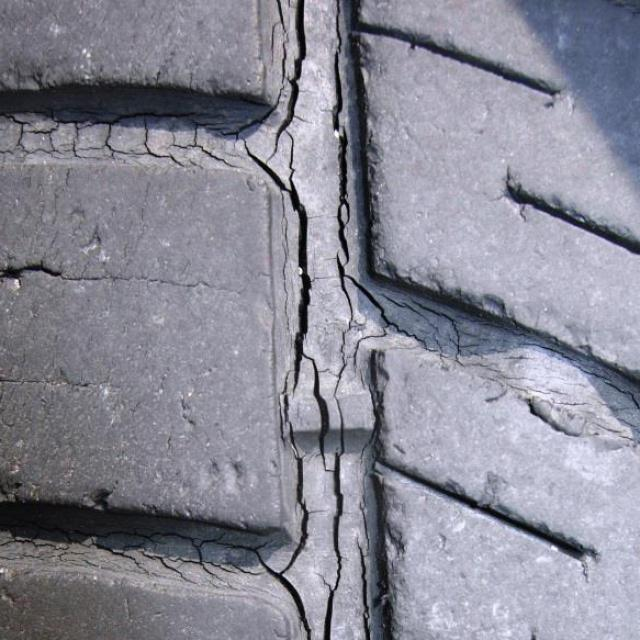Cracks: (256, 0, 399, 640), (0, 46, 256, 387), (397, 260, 640, 459), (0, 463, 254, 640)
